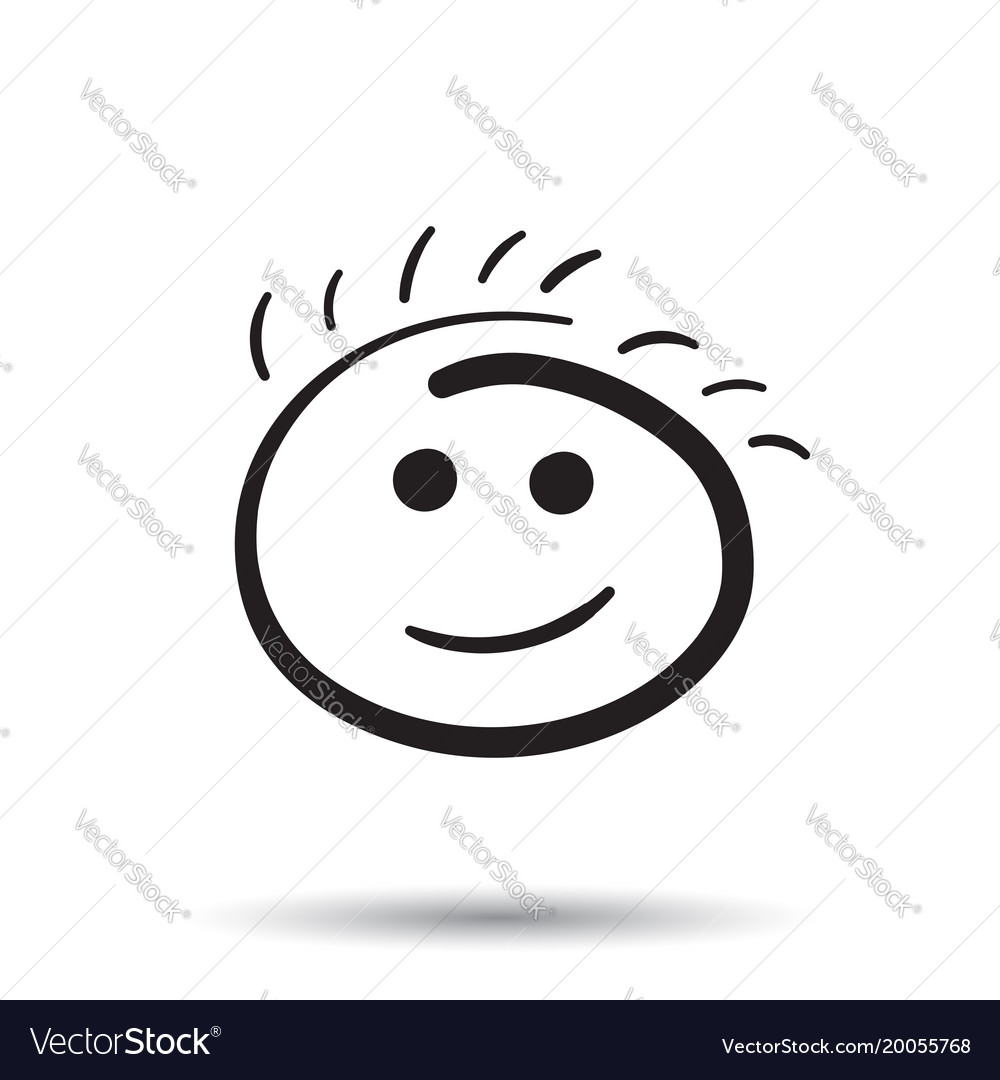feliz: (122, 225, 918, 813), (330, 418, 651, 667)
